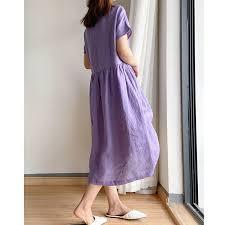dress: (85, 6, 153, 186)
